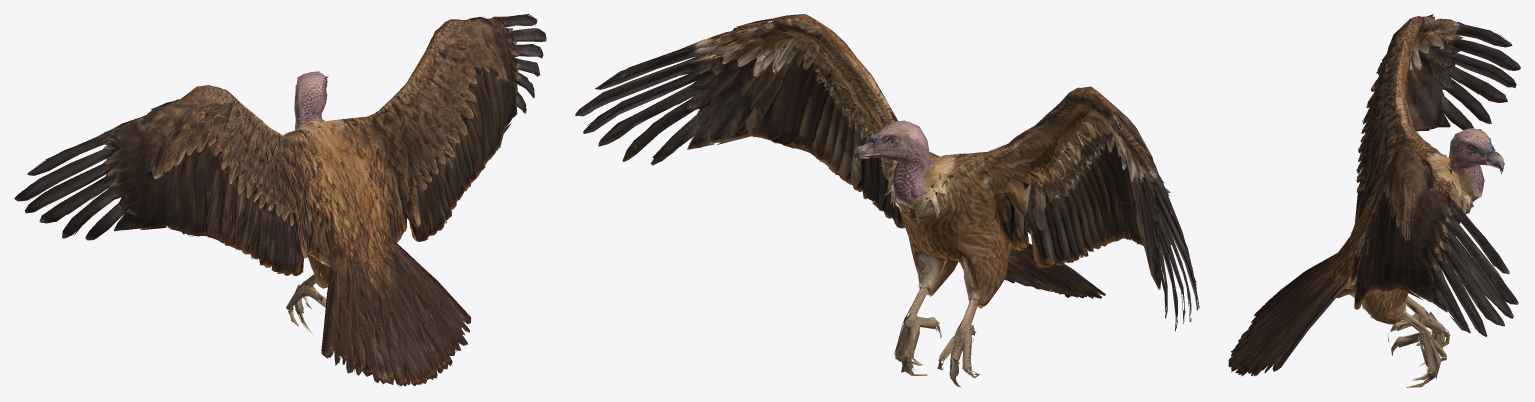
File: vulture.glb
3 renders of one model, left to right at view 1: azimuth 30°, elevation 25°; view 2: azimuth 150°, elevation 25°; view 3: azimuth 270°, elevation 25°, orthographic. The views are drawn at different scales.
Visible parts, largest first — view 1: WingL, WingR, Body; view 2: WingR, WingL, Body; view 3: WingR, WingL, Body.
Part boxes in pixels (box(x1,y1,x2,y2)): WingL: box(14, 85, 393, 384); WingR: box(316, 14, 546, 377); Body: box(290, 71, 448, 386); WingR: box(575, 14, 1014, 375); WingL: box(943, 86, 1199, 378); Body: box(873, 120, 1072, 387); WingR: box(1231, 138, 1518, 387); WingL: box(1235, 14, 1520, 347); Body: box(1228, 128, 1493, 387).
Bounding box in the file's own units: 2.2 × 1.13 × 0.9955.
1 material, 1 textured.
